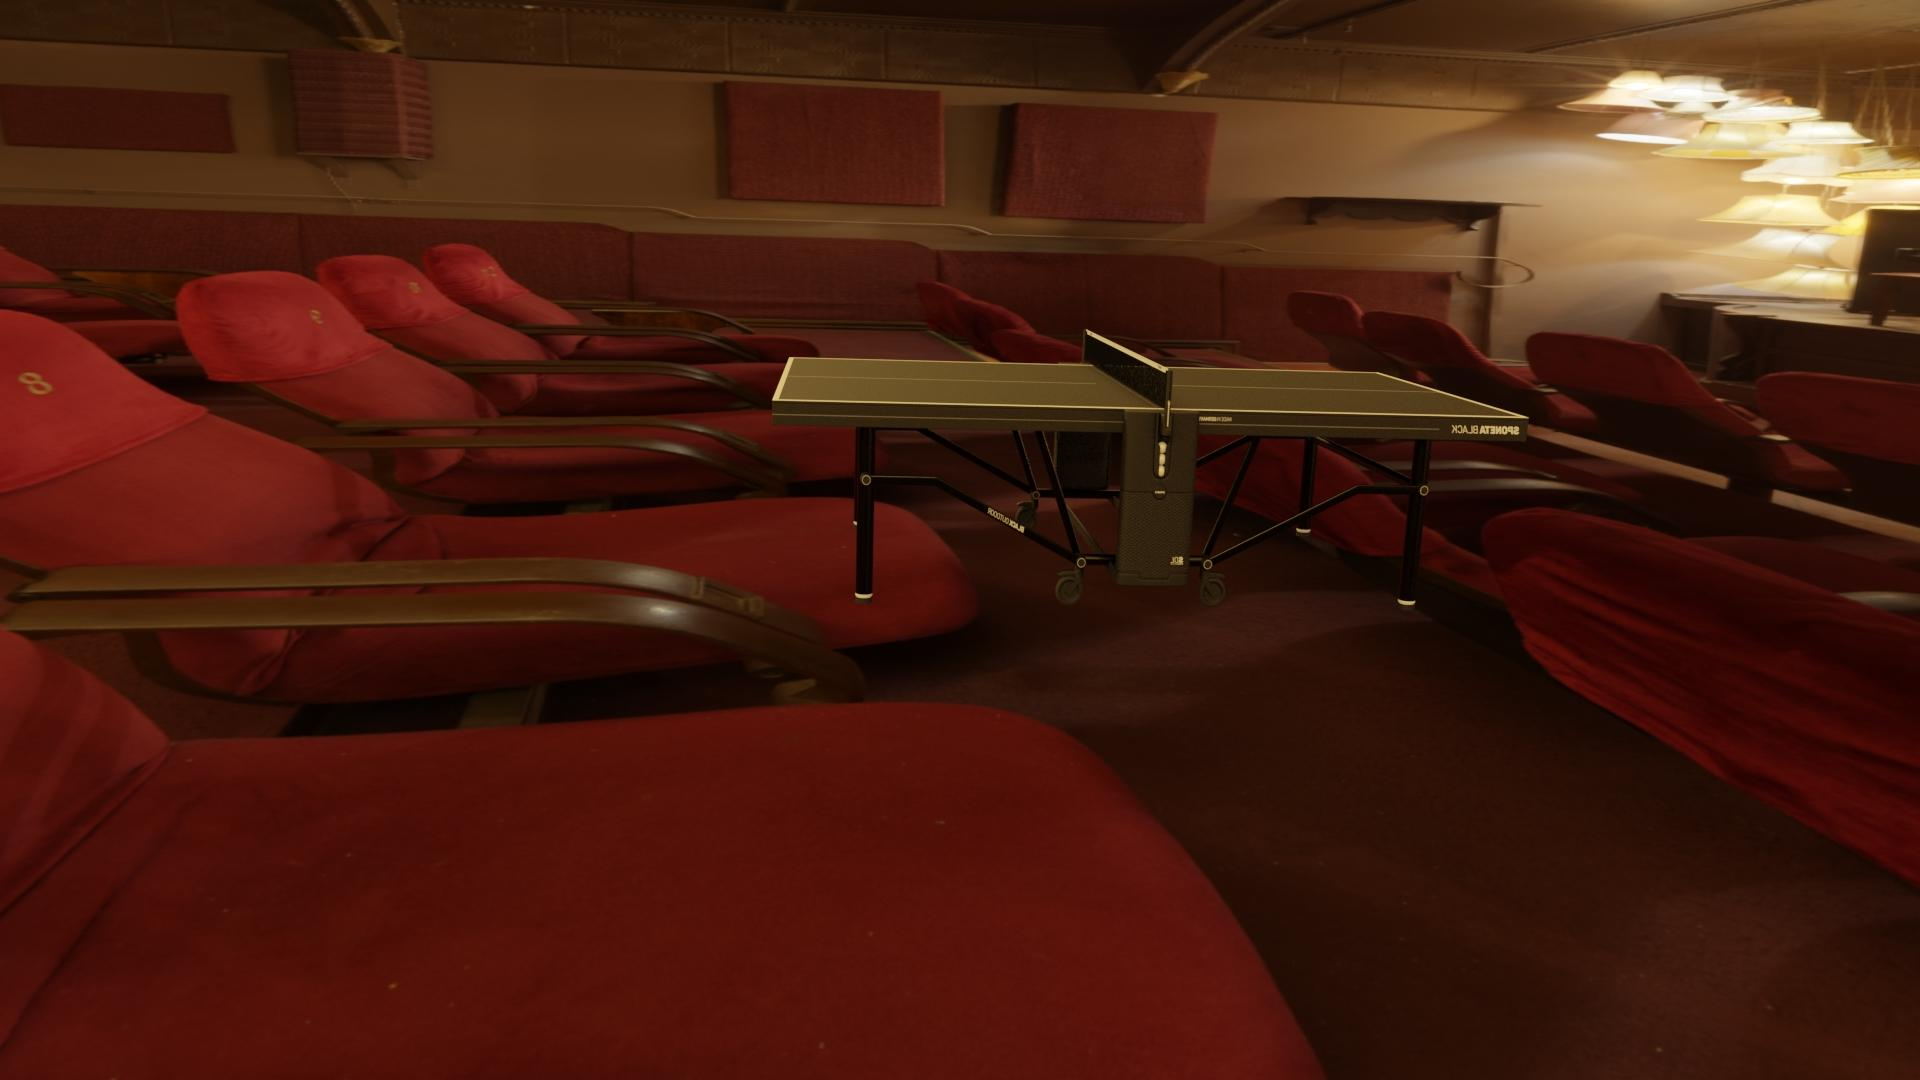table: (778, 357, 1522, 417)
